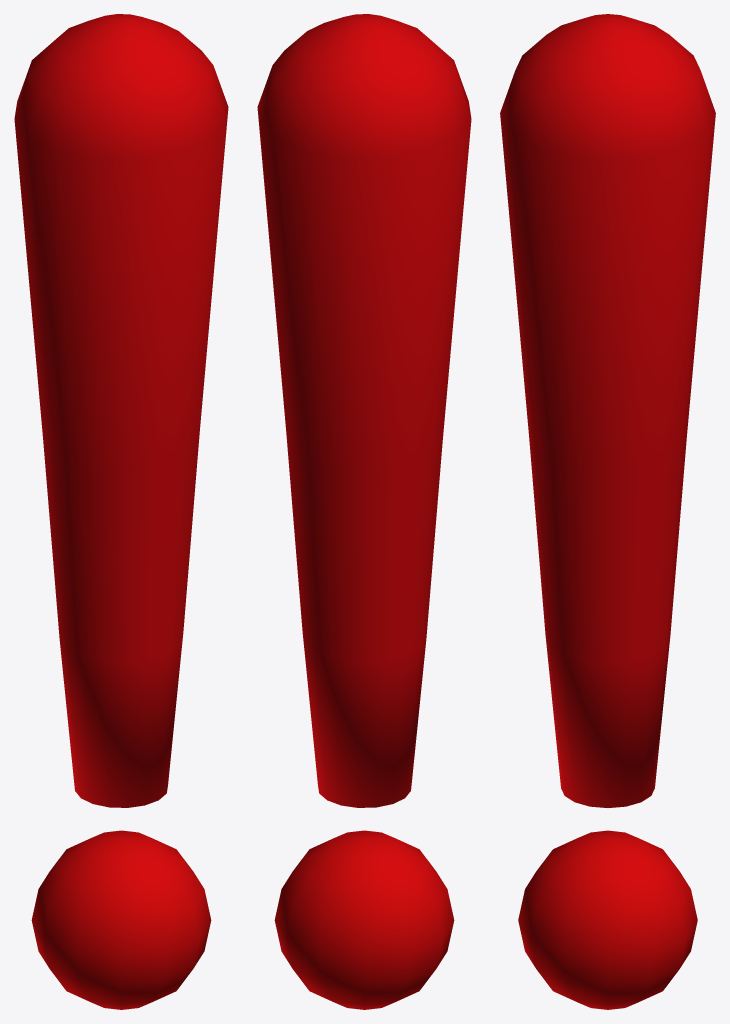
Rendered from snaaaaaaake1.fbx.
3 renders of one model, left to right at view 1: azimuth 30°, elevation 25°; view 2: azimuth 150°, elevation 25°; view 3: azimuth 270°, elevation 25°, orthographic.
Visible parts, largest first — view 1: Cylinder, Sphere; view 2: Cylinder, Sphere; view 3: Cylinder, Sphere.
Boxes of the visible parts, x1=… form: Cylinder: x1=14, y1=14, x2=228, y2=807; Sphere: x1=31, y1=830, x2=211, y2=1009; Cylinder: x1=257, y1=14, x2=471, y2=807; Sphere: x1=274, y1=830, x2=454, y2=1009; Cylinder: x1=500, y1=14, x2=715, y2=807; Sphere: x1=518, y1=830, x2=697, y2=1009.
Bounding box in the file's own units: 41.03 × 205 × 41.03.
